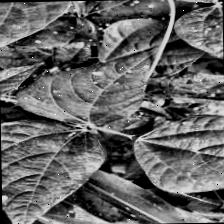Bean Rust: (1, 118, 105, 224), (16, 50, 161, 124), (133, 116, 224, 190), (83, 0, 186, 45), (0, 4, 79, 51), (173, 7, 223, 68)
